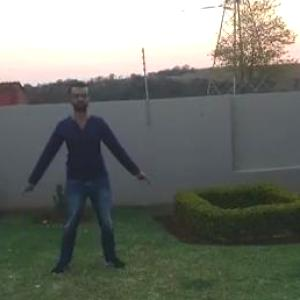land: (10, 70, 146, 298)
